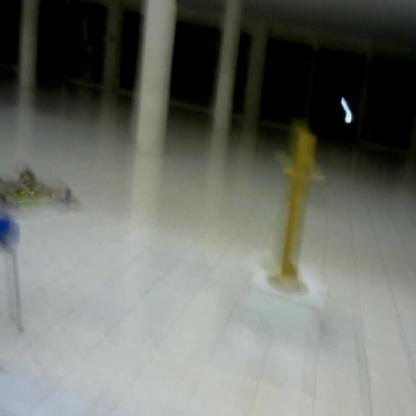pole: (265, 124, 331, 306)
